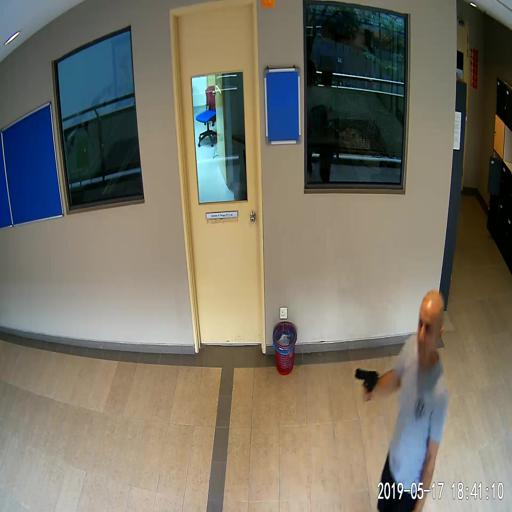pistol: (354, 367, 377, 401)
